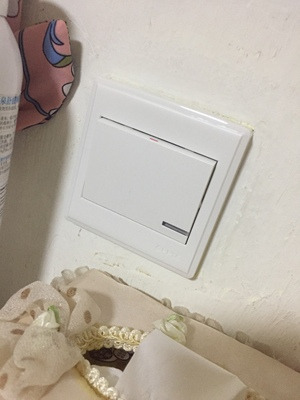switch: (71, 108, 222, 250)
